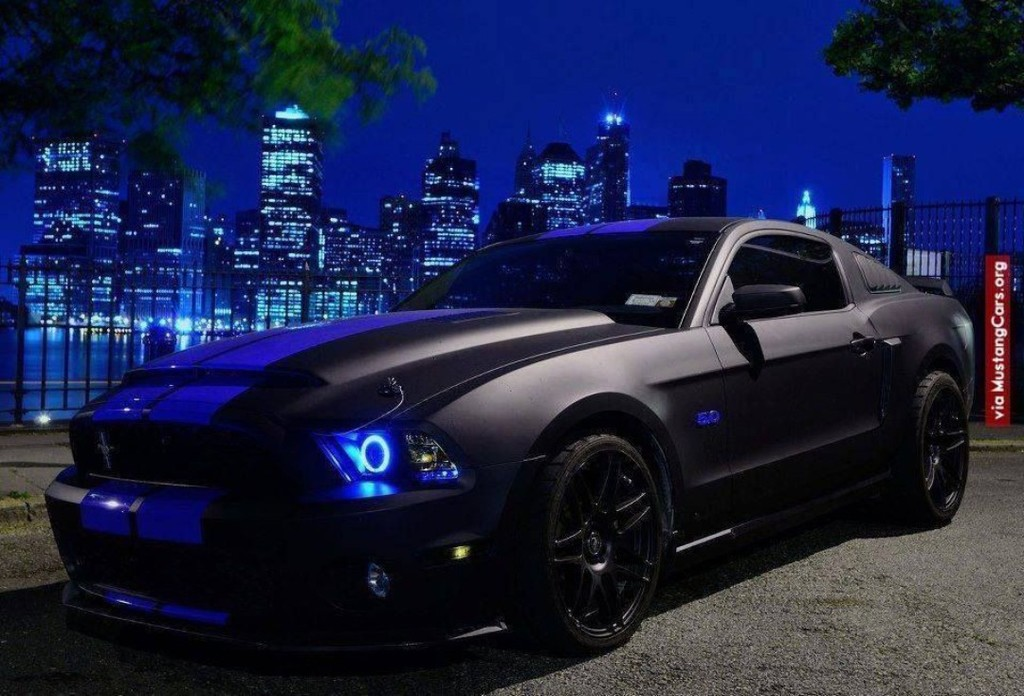mobil: (51, 213, 979, 665)
